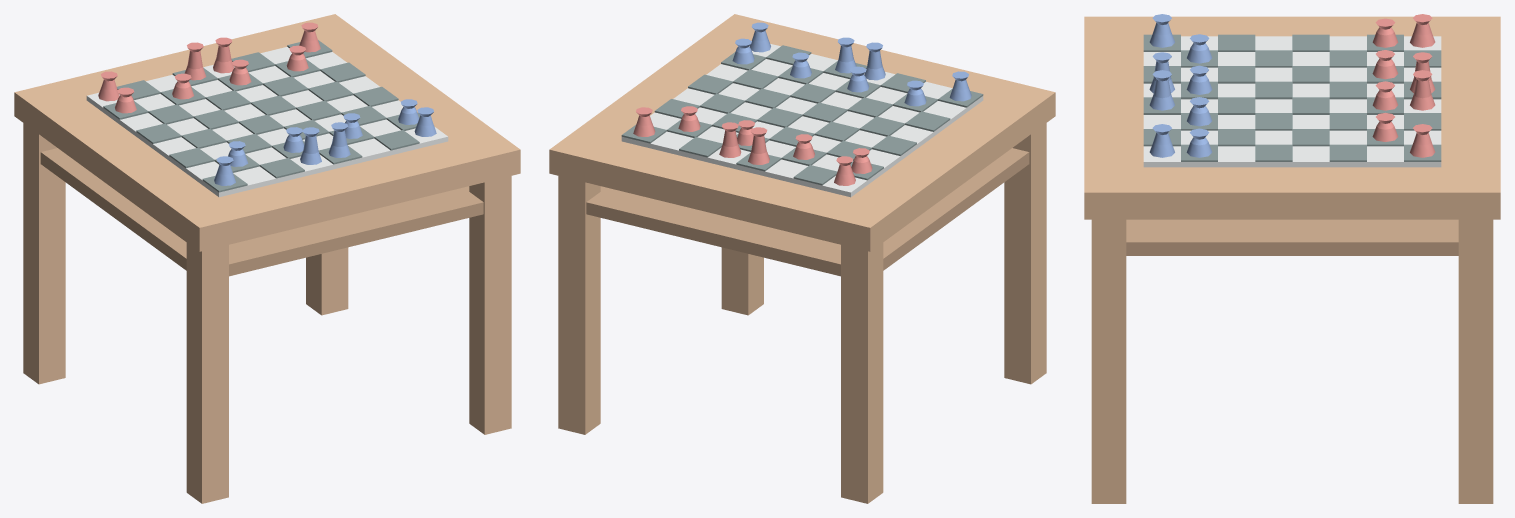
The model's file is chessTable.glb.
3 views of the same model, side by side, from view 1: azimuth 30°, elevation 25°; view 2: azimuth 150°, elevation 25°; view 3: azimuth 270°, elevation 25° (orthographic). The views are drawn at different scales.
Parts seen in each view (by area): view 1: chessTable; view 2: chessTable; view 3: chessTable.
Boxes of the visible parts, bbox=[...] form: chessTable: bbox=[14, 14, 520, 503]; chessTable: bbox=[549, 14, 1055, 503]; chessTable: bbox=[1084, 14, 1500, 503].
Bounding box in the file's own units: 0.42 × 0.395 × 0.42.
